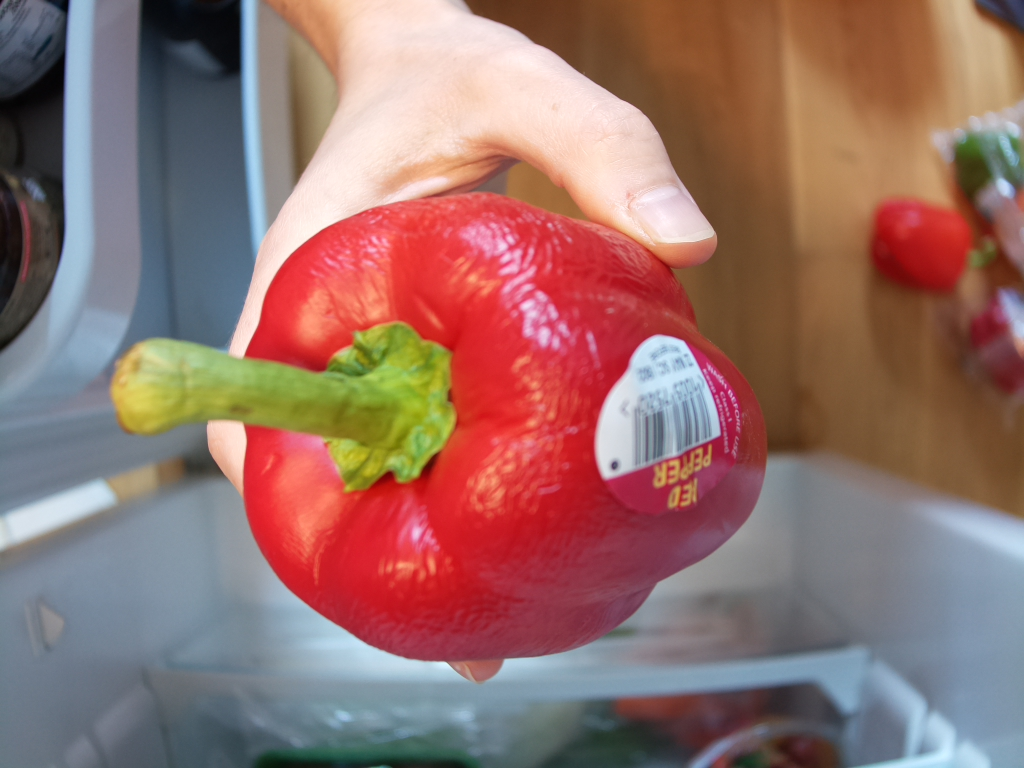pepper-bad: (104, 186, 776, 670)
